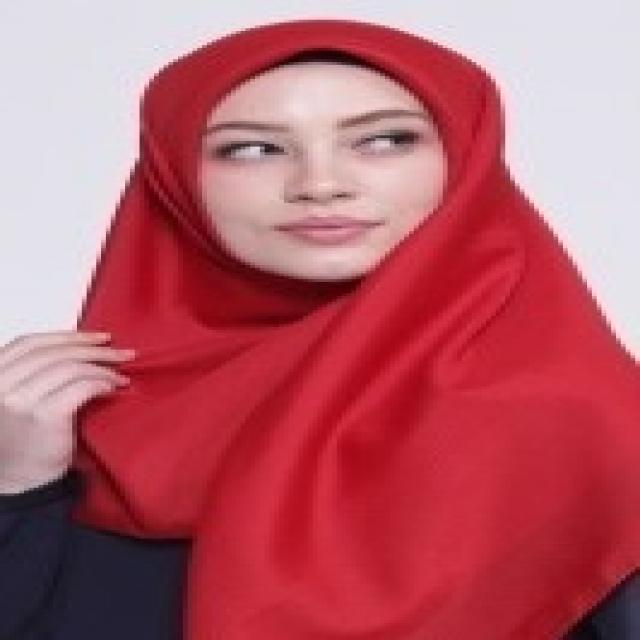head: (144, 4, 492, 294)
